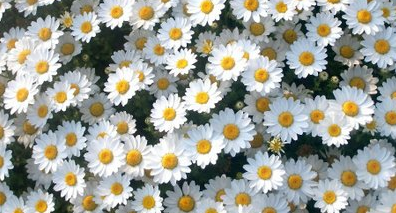papatya: (12, 16, 361, 213)
